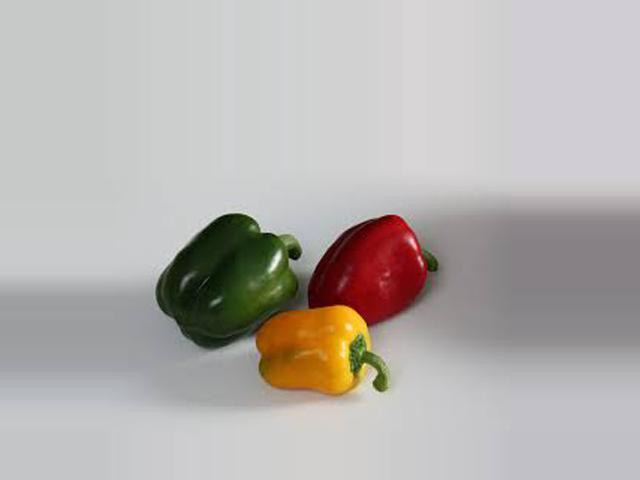bell_pepper: (253, 285, 388, 405)
